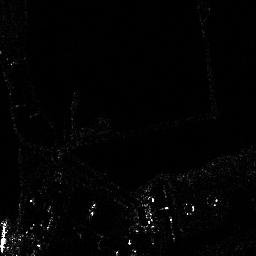ship: (1, 220, 6, 254)
